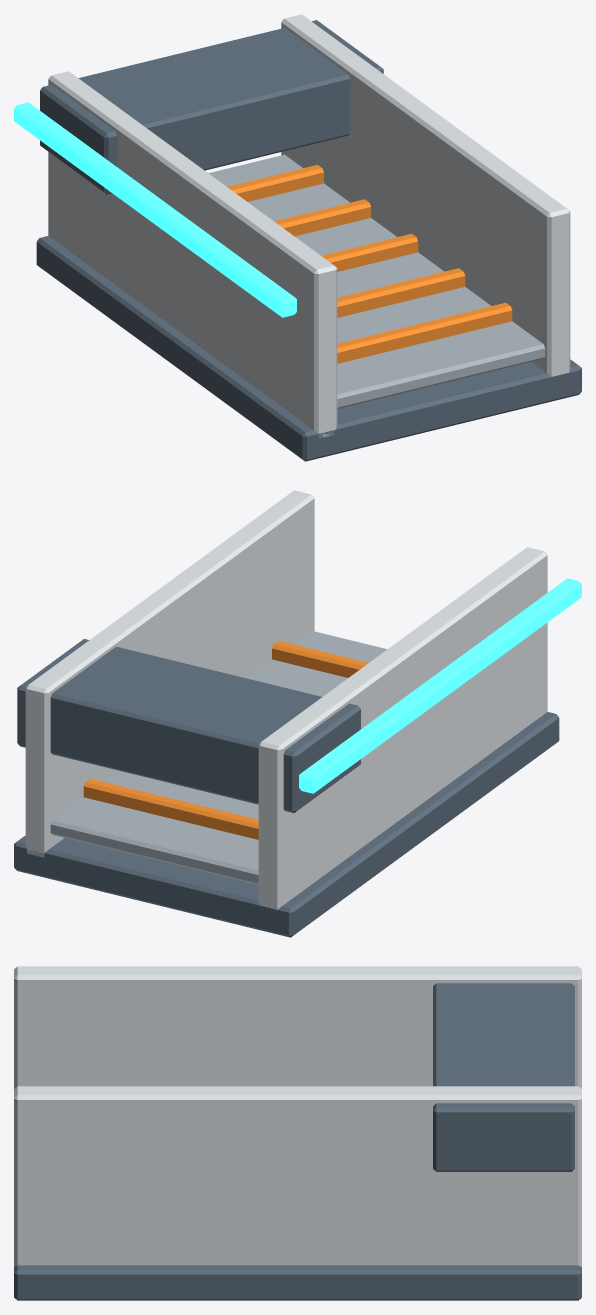
File: machine-sluice.fbx
The picture shows the model from 3 angles, top to bottom: view 1: azimuth 30°, elevation 25°; view 2: azimuth 150°, elevation 25°; view 3: azimuth 270°, elevation 25°; orthographic projection. The views are drawn at different scales.
Visible parts, largest first — view 1: machine-sluice_Wash trough wall.002, machine-sluice_Wash trough wall.003, machine-sluice_Feed hopper.001, machine-sluice_Skid.001, machine-sluice_Wash channel.001, machine-sluice_Water feed.001, machine-sluice_Riffle.005, machine-sluice_Riffle.006, machine-sluice_Riffle.007, machine-sluice_Riffle.009, machine-sluice_Riffle.008; view 2: machine-sluice_Wash trough wall.002, machine-sluice_Wash trough wall.003, machine-sluice_Feed hopper.001, machine-sluice_Skid.001, machine-sluice_Wash channel.001, machine-sluice_Water feed.001, machine-sluice_Riffle.009, machine-sluice_Riffle.005; view 3: machine-sluice_Wash trough wall.003, machine-sluice_Wash trough wall.002, machine-sluice_Feed hopper.001, machine-sluice_Skid.001.
Boxes of the visible parts, box(x1,y1,x2,y2) form: machine-sluice_Wash trough wall.002: box(48, 71, 337, 437); machine-sluice_Wash trough wall.003: box(281, 14, 570, 376); machine-sluice_Feed hopper.001: box(40, 20, 383, 194); machine-sluice_Skid.001: box(36, 236, 581, 461); machine-sluice_Wash channel.001: box(208, 154, 545, 408); machine-sluice_Water feed.001: box(14, 102, 296, 317); machine-sluice_Riffle.005: box(337, 302, 512, 363); machine-sluice_Riffle.006: box(337, 268, 465, 317); machine-sluice_Riffle.007: box(321, 233, 418, 271); machine-sluice_Riffle.009: box(227, 164, 323, 201); machine-sluice_Riffle.008: box(274, 199, 370, 236); machine-sluice_Wash trough wall.002: box(258, 547, 547, 909); machine-sluice_Wash trough wall.003: box(25, 490, 314, 857); machine-sluice_Feed hopper.001: box(17, 639, 360, 813); machine-sluice_Skid.001: box(14, 712, 559, 937); machine-sluice_Wash channel.001: box(50, 630, 387, 884); machine-sluice_Water feed.001: box(299, 578, 581, 793); machine-sluice_Riffle.009: box(83, 778, 258, 839); machine-sluice_Riffle.005: box(272, 640, 368, 677); machine-sluice_Wash trough wall.003: box(14, 1086, 581, 1266); machine-sluice_Wash trough wall.002: box(14, 966, 581, 1088); machine-sluice_Feed hopper.001: box(433, 983, 574, 1171); machine-sluice_Skid.001: box(14, 1265, 581, 1300).
Bounding box in the file's own units: 260 × 155 × 400.
